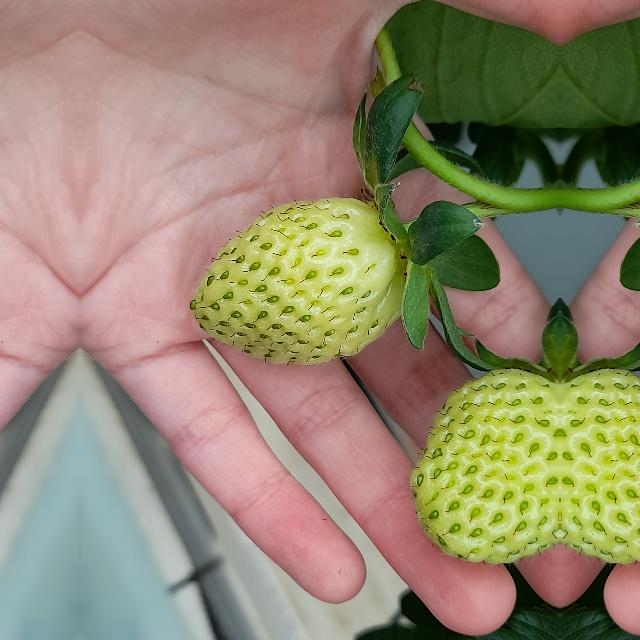Health_25: (189, 197, 401, 365), (408, 358, 560, 564), (560, 358, 640, 564)
